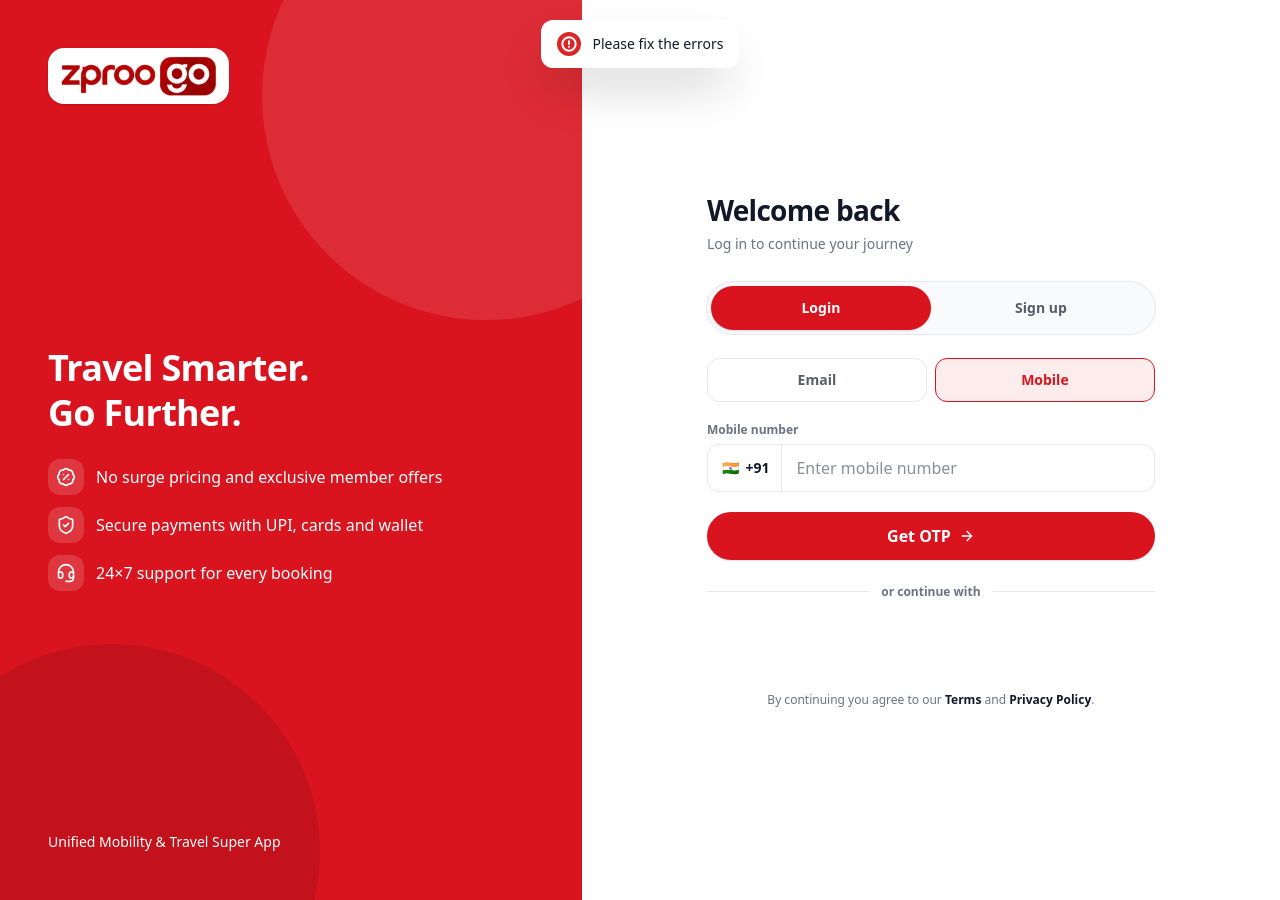
Test: SOP feedback › toasts "Login successful!" and "OTP sent to +91 …"
Click the radio button labelled "Email". click: (817, 380)
box: [707,358,927,402]
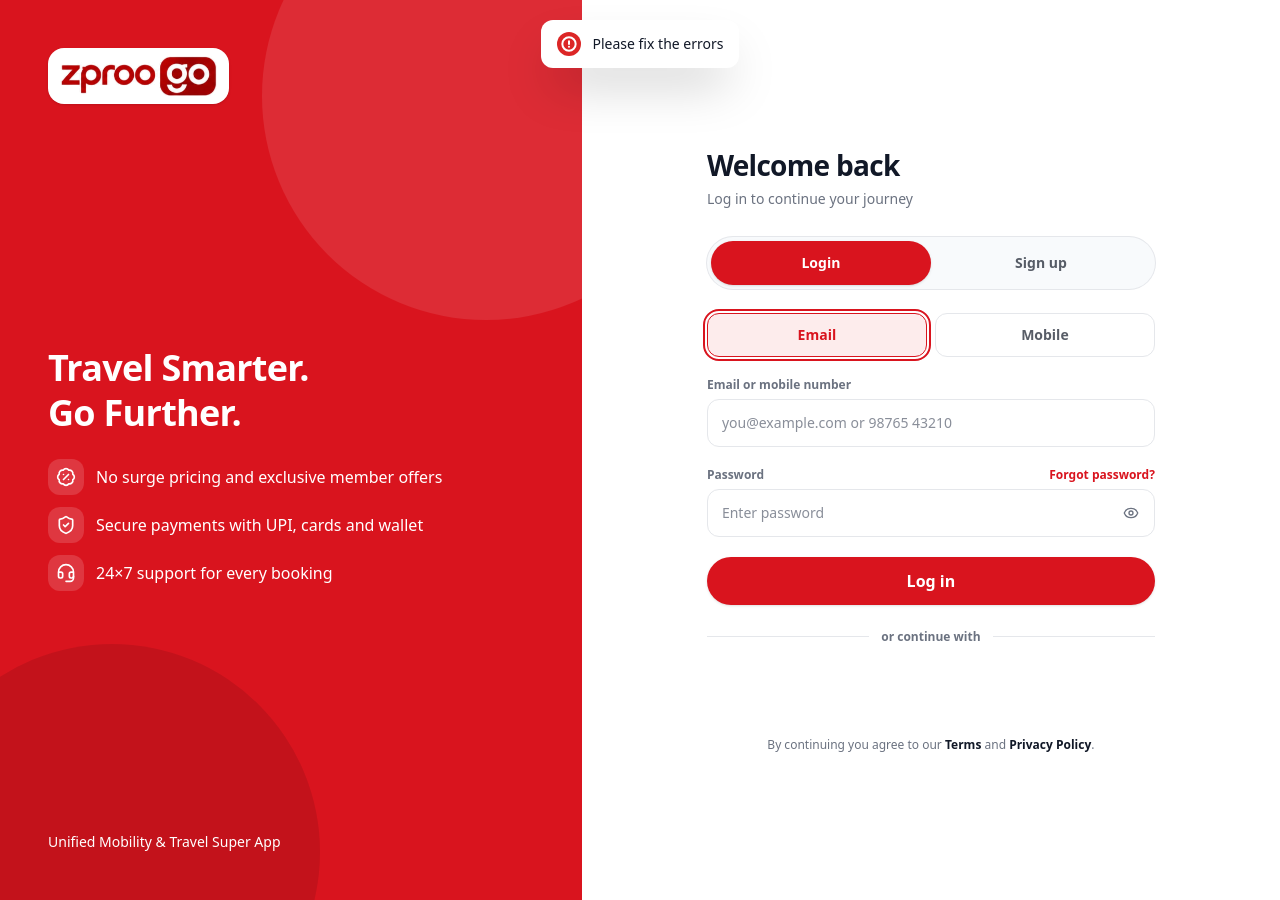
Type "amit@example.com" into the field labelled "Email or mobile number". click: (931, 422)
box: [707,398,1155,446]
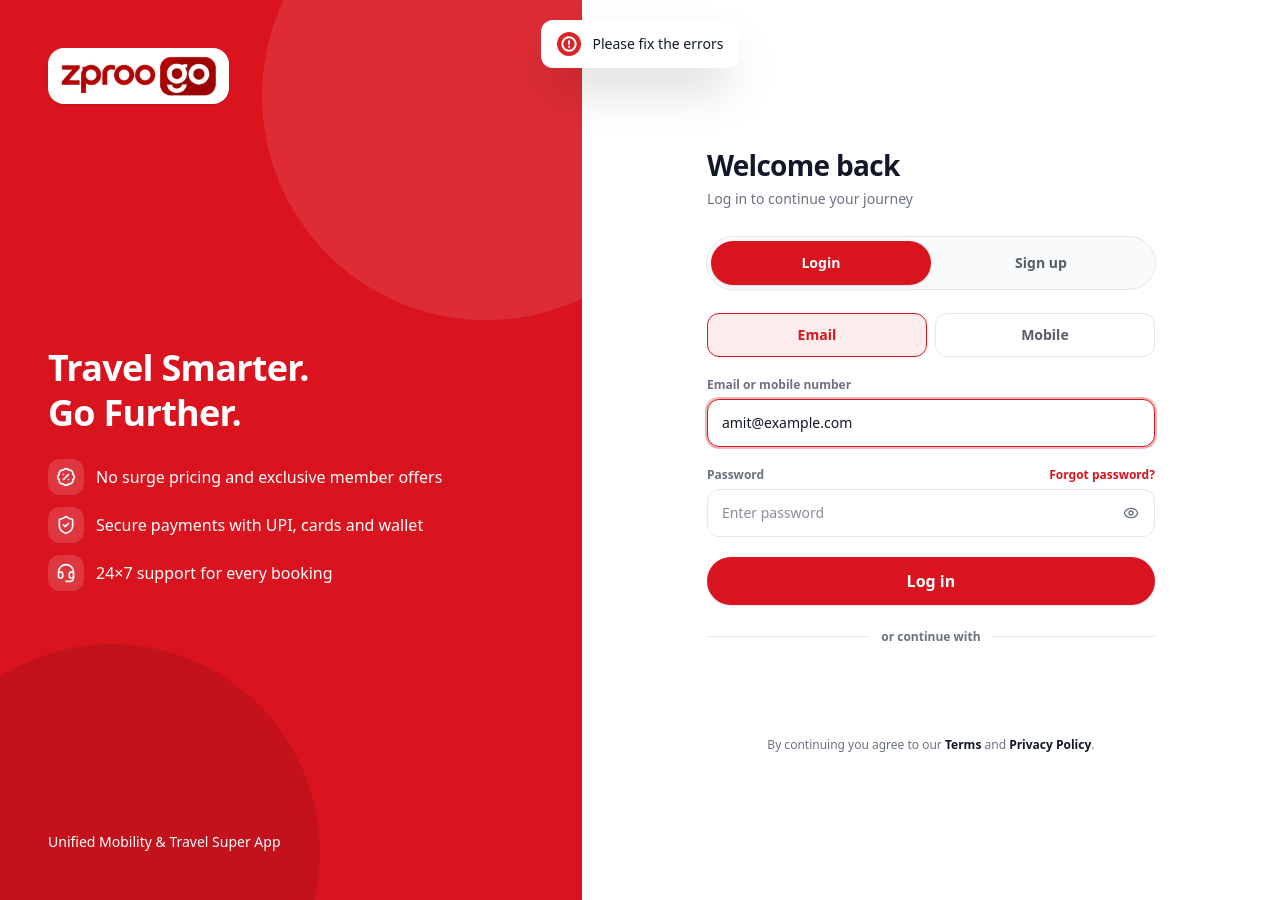
Type "travel2026" into the password field labelled "Password". click: (931, 512)
box: [707,488,1155,536]
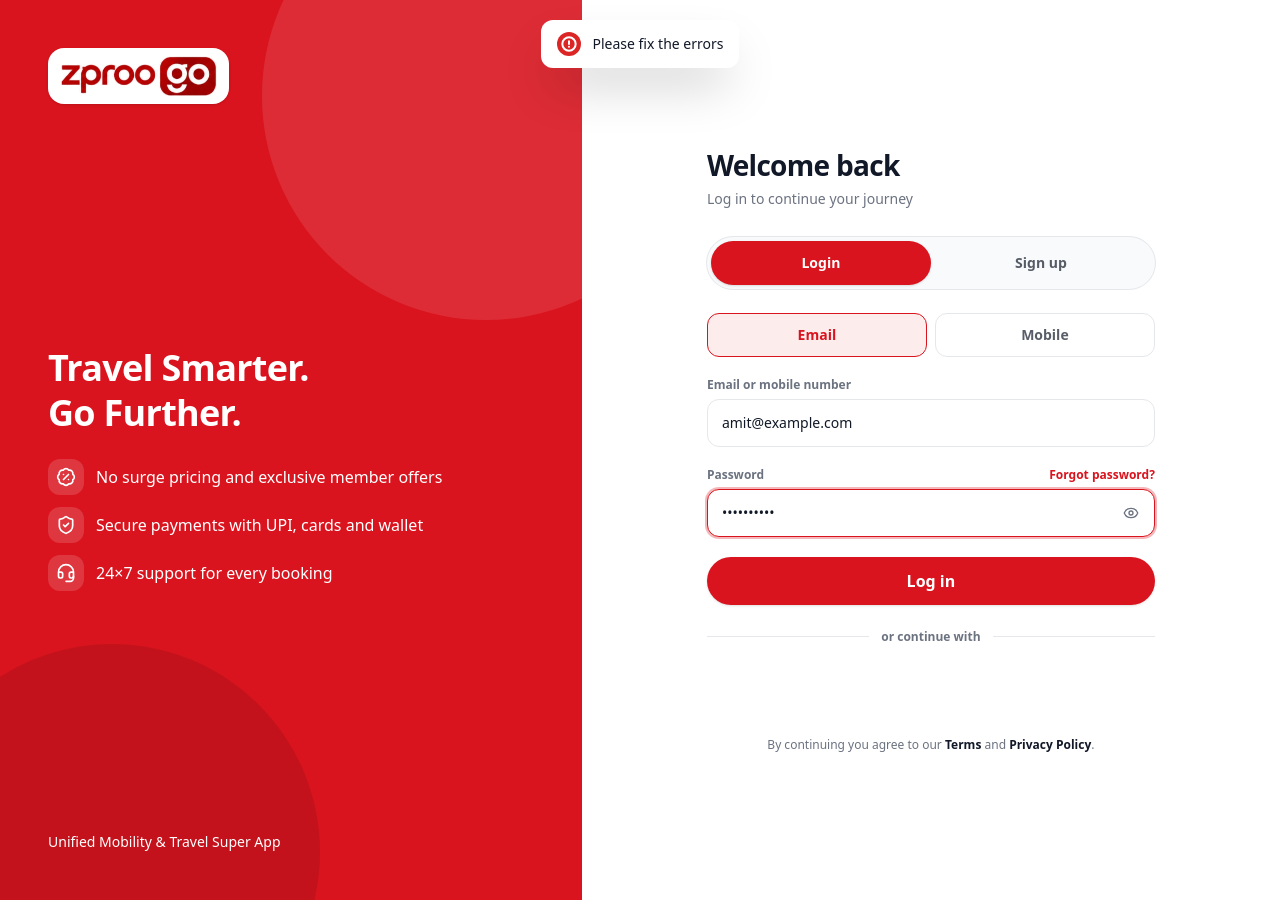
Click the button "Log in". click: (931, 580)
box: [707,556,1155,604]
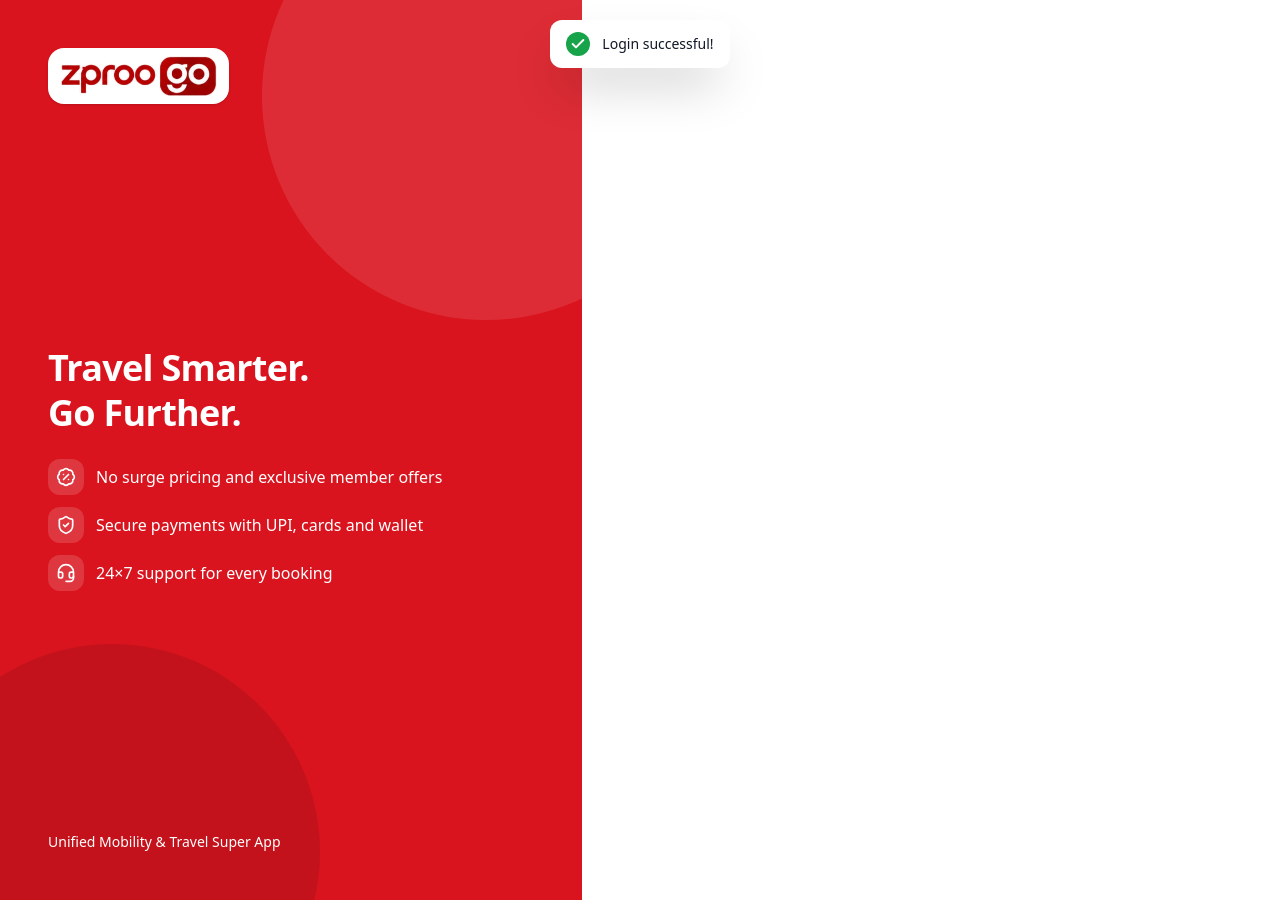
Now the message with test id "toast-success" reads "Login successful!", box [602,34,714,53]
